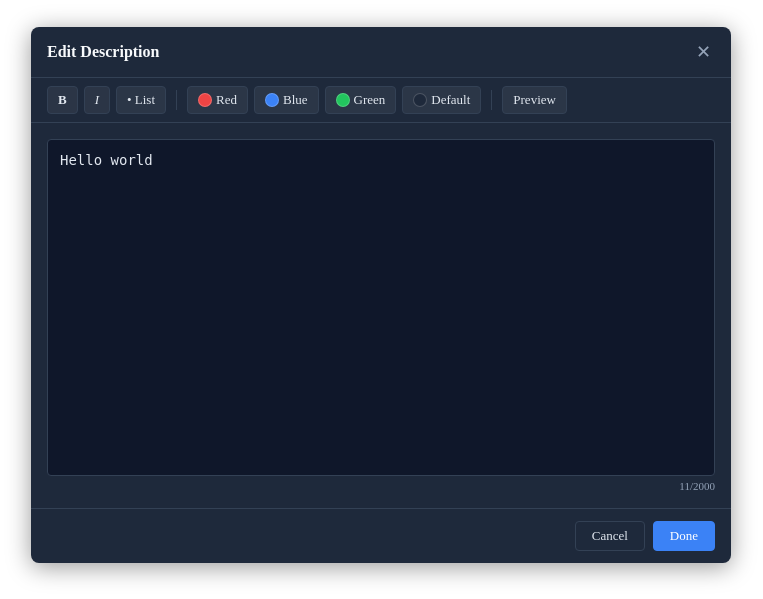
Test: DescriptionModal › toolbar italic button › wraps selected text with italic markers
This screenshot has width=763, height=599.
What coordinates should you click on to do the following:
click the button with test id "toolbar-italic"
I would click on:
 (97, 100)
Its box is [84,86,110,114].
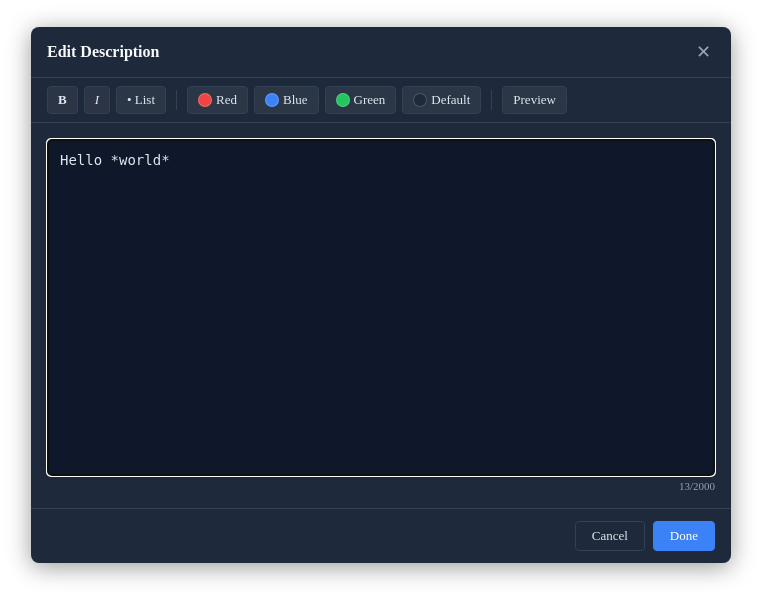
Now the text box with test id "description-modal-textarea" holds "Hello *world*", box [47,139,715,476]
